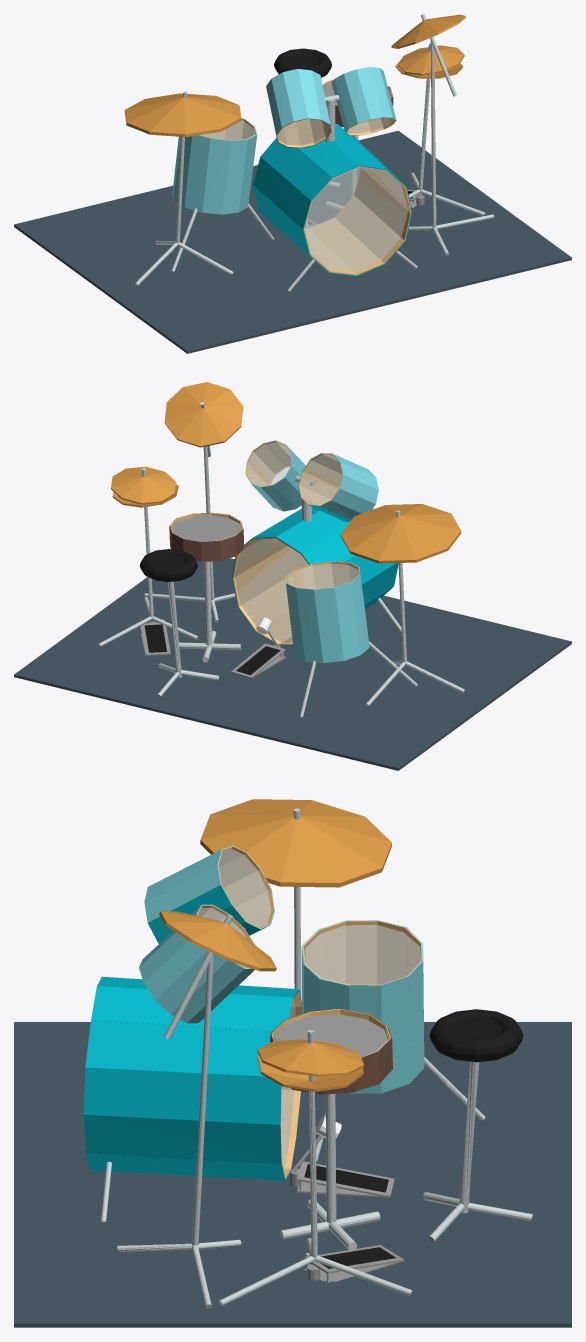
Rendered from DrumKit.glb.
3 renders of one model, top to bottom at view 1: azimuth 30°, elevation 25°; view 2: azimuth 150°, elevation 25°; view 3: azimuth 270°, elevation 25°, orthographic. The views are drawn at different scales.
Parts seen in each view (by area): view 1: group516436384, group887072338, group654266889, group370074410, group1478113385, group410413010, group706437995, group1557875796, group1375386455, group1694807479, group73174683, group28713638 (+15 smaller); view 2: group516436384, group370074410, group887072338, group1320678639, group654266889, group1478113385, group1532374837, group1694807479, group1404238537, group664528598, group722085133, group878792710 (+17 smaller); view 3: group516436384, group370074410, group307779137, group350255547, group1038593656, group654266889, group1532374837, group1478113385, group1564768936, group1533848445, group664528598, group1320678639 (+22 smaller).
Part boxes in pixels (x1,y1,x2,y2): group516436384: [14, 130, 571, 353]; group887072338: [304, 167, 407, 271]; group654266889: [266, 69, 331, 148]; group370074410: [124, 93, 241, 136]; group1478113385: [331, 67, 396, 135]; group410413010: [334, 196, 404, 263]; group706437995: [260, 138, 332, 200]; group1557875796: [253, 157, 311, 229]; group1375386455: [309, 218, 384, 274]; group1694807479: [354, 167, 410, 240]; group73174683: [202, 138, 231, 214]; group28713638: [184, 135, 210, 212]; group516436384: [14, 558, 571, 770]; group370074410: [340, 504, 461, 563]; group887072338: [235, 538, 308, 642]; group1320678639: [164, 382, 243, 456]; group654266889: [298, 453, 378, 521]; group1478113385: [245, 440, 305, 511]; group1532374837: [139, 549, 218, 697]; group1694807479: [232, 546, 307, 606]; group1404238537: [111, 466, 176, 504]; group664528598: [98, 468, 198, 655]; group722085133: [314, 587, 343, 662]; group878792710: [276, 510, 349, 553]; group516436384: [14, 1022, 571, 1327]; group370074410: [200, 799, 391, 887]; group307779137: [83, 1067, 281, 1124]; group350255547: [85, 1020, 271, 1076]; group1038593656: [83, 1114, 281, 1164]; group654266889: [144, 845, 274, 943]; group1532374837: [423, 1009, 532, 1242]; group1478113385: [139, 904, 254, 1023]; group1564768936: [305, 924, 420, 984]; group1533848445: [91, 986, 293, 1031]; group664528598: [219, 1030, 412, 1305]; group1320678639: [159, 911, 276, 1039].
Bounding box in the file's own units: 1.6 × 0.872 × 1.25.
